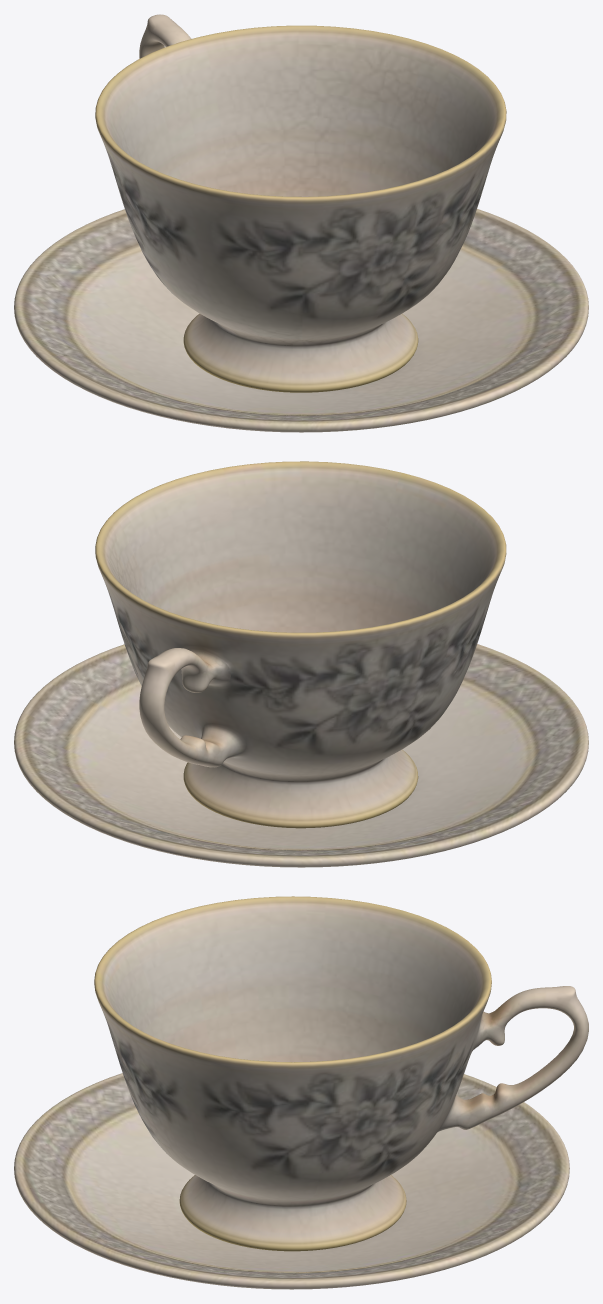
Rendered from DiffuseTransmissionTeacup.glb.
3 views of the same model, one above another, from view 1: azimuth 30°, elevation 25°; view 2: azimuth 150°, elevation 25°; view 3: azimuth 270°, elevation 25° (orthographic). The views are drawn at different scales.
Visible parts, largest first — view 1: tea_cup, tea_saucer; view 2: tea_cup, tea_saucer; view 3: tea_cup, tea_saucer.
Part boxes in pixels (box(x1,y1,x2,y2)): tea_cup: box(95, 14, 506, 392); tea_saucer: box(14, 209, 588, 432); tea_cup: box(95, 461, 506, 828); tea_saucer: box(14, 644, 588, 867); tea_cup: box(94, 896, 588, 1251); tea_saucer: box(14, 1073, 569, 1289).
Bounding box in the file's own units: 0.1486 × 0.0704 × 0.1537.
Materials: 2 (2 with a texture image).
